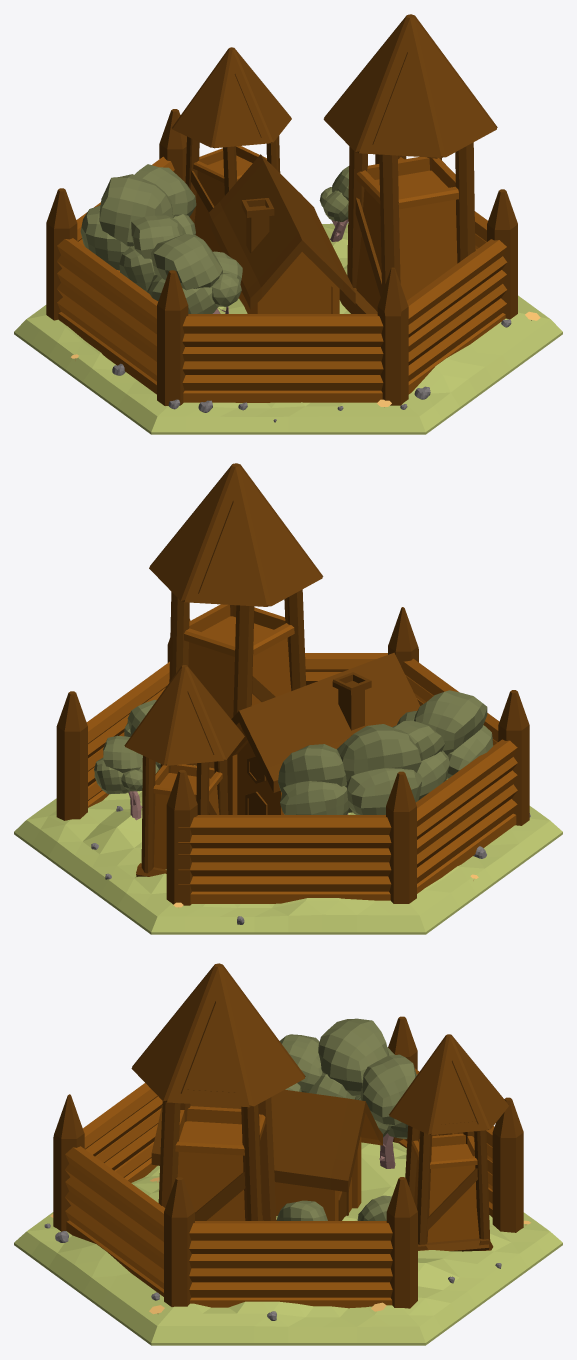
Rendered from castle0.glb.
The picture shows the model from 3 angles, top to bottom: view 1: azimuth 30°, elevation 25°; view 2: azimuth 150°, elevation 25°; view 3: azimuth 270°, elevation 25°; orthographic projection.
Parts seen in each view (by area): view 1: building, land, trees, small_details; view 2: building, land, trees; view 3: building, land, trees, small_details.
Part boxes in pixels (x1=…): building: x1=46, y1=14, x2=517, y2=405; land: x1=14, y1=223, x2=562, y2=434; trees: x1=80, y1=164, x2=348, y2=313; small_details: x1=71, y1=311, x2=540, y2=422; building: x1=56, y1=463, x2=529, y2=905; land: x1=14, y1=765, x2=562, y2=934; trees: x1=94, y1=690, x2=493, y2=820; building: x1=53, y1=963, x2=523, y2=1308; land: x1=14, y1=1142, x2=562, y2=1345; trees: x1=276, y1=1018, x2=417, y2=1220; small_details: x1=44, y1=1177, x2=530, y2=1320.
Bounding box in the file's own units: 1.73 × 1.3 × 2.
